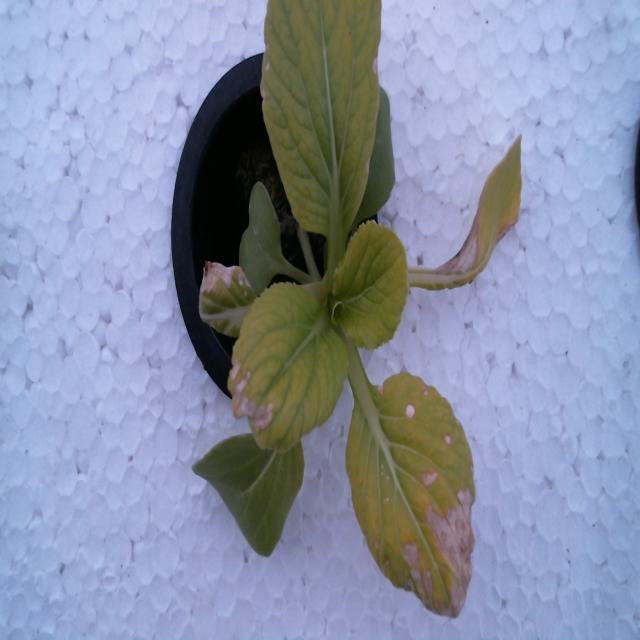pakcoy_tidak_sehat: (191, 0, 532, 639)
